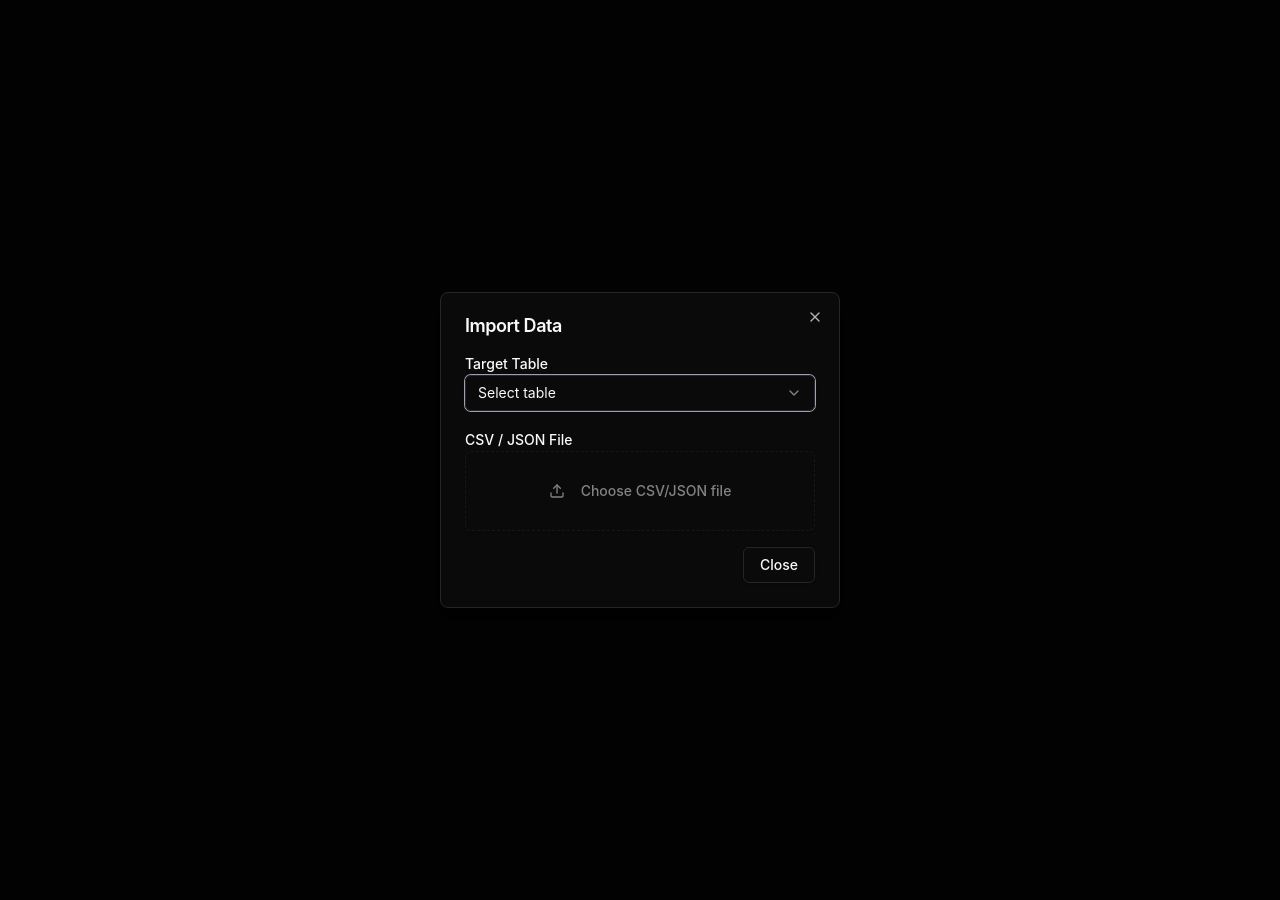
Scenario: shows only TABLE type options in select
The image size is (1280, 900).
Click the dropdown "Select table".
click(517, 392)  # box x1=465 y1=375 x2=815 y2=411
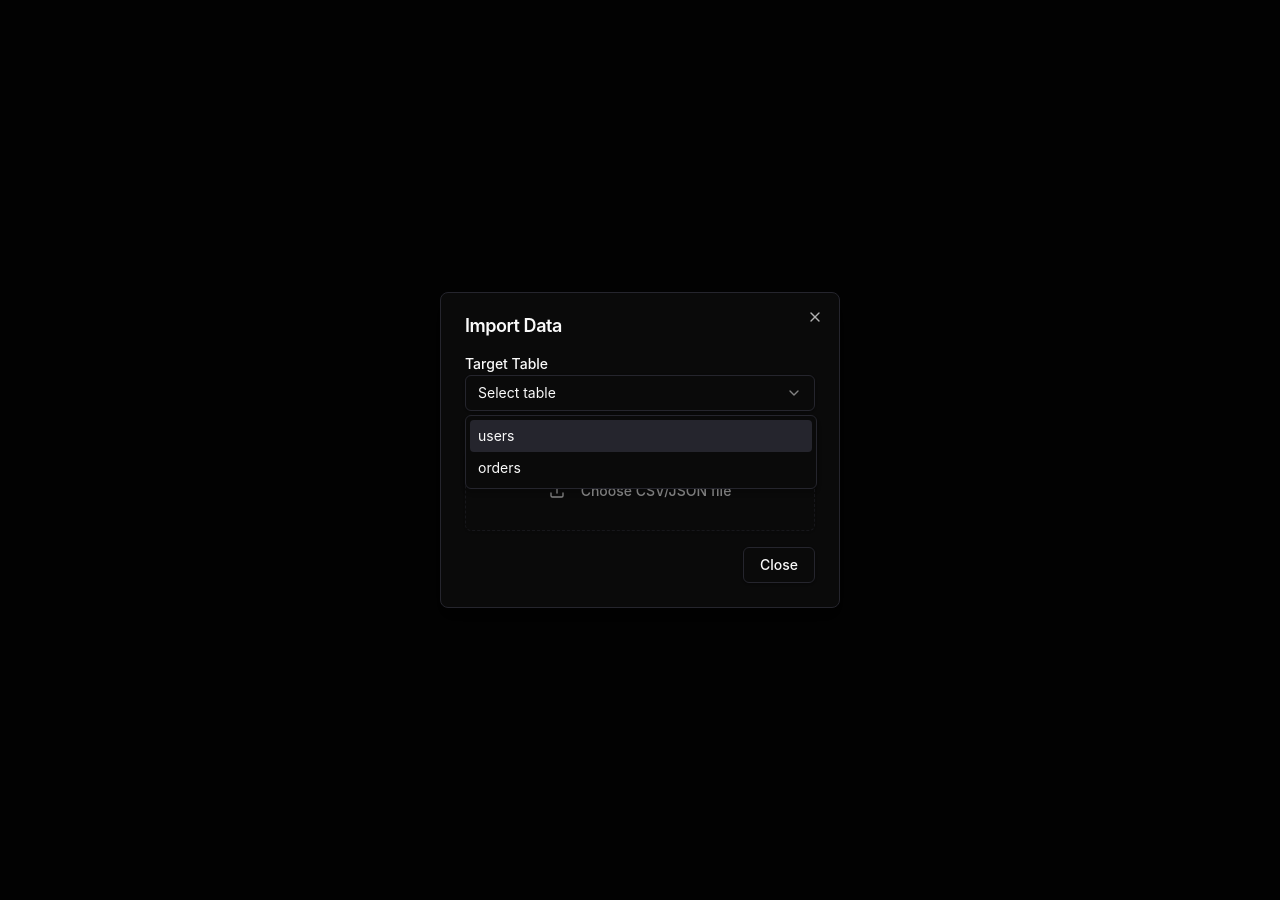
Check: the text "users" is shown, box x1=478 y1=426 x2=514 y2=446
Check: the text "orders" is shown, box x1=478 y1=458 x2=521 y2=478
